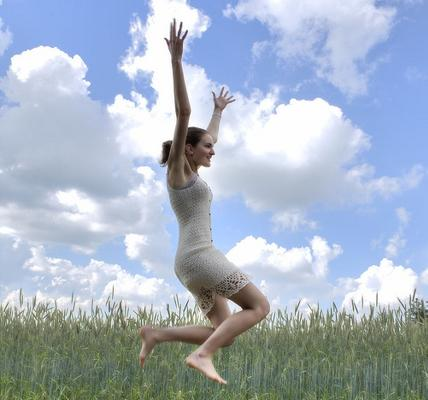person: (138, 16, 271, 385)
